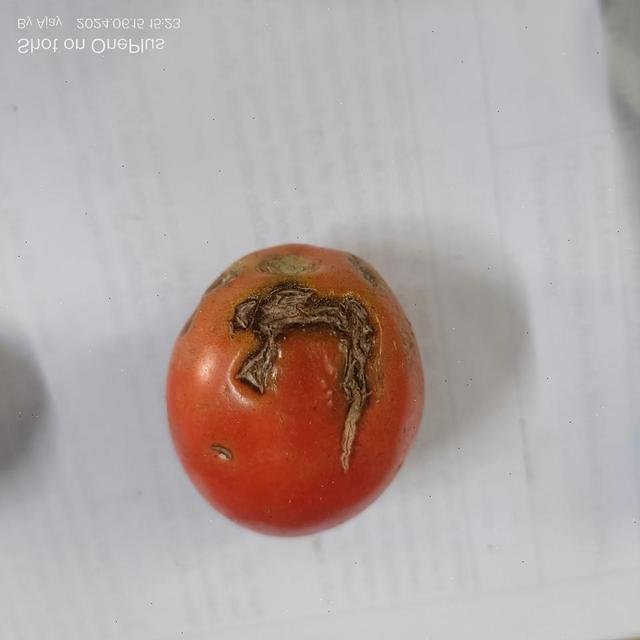Cracking Fruit: (88, 134, 280, 351)
